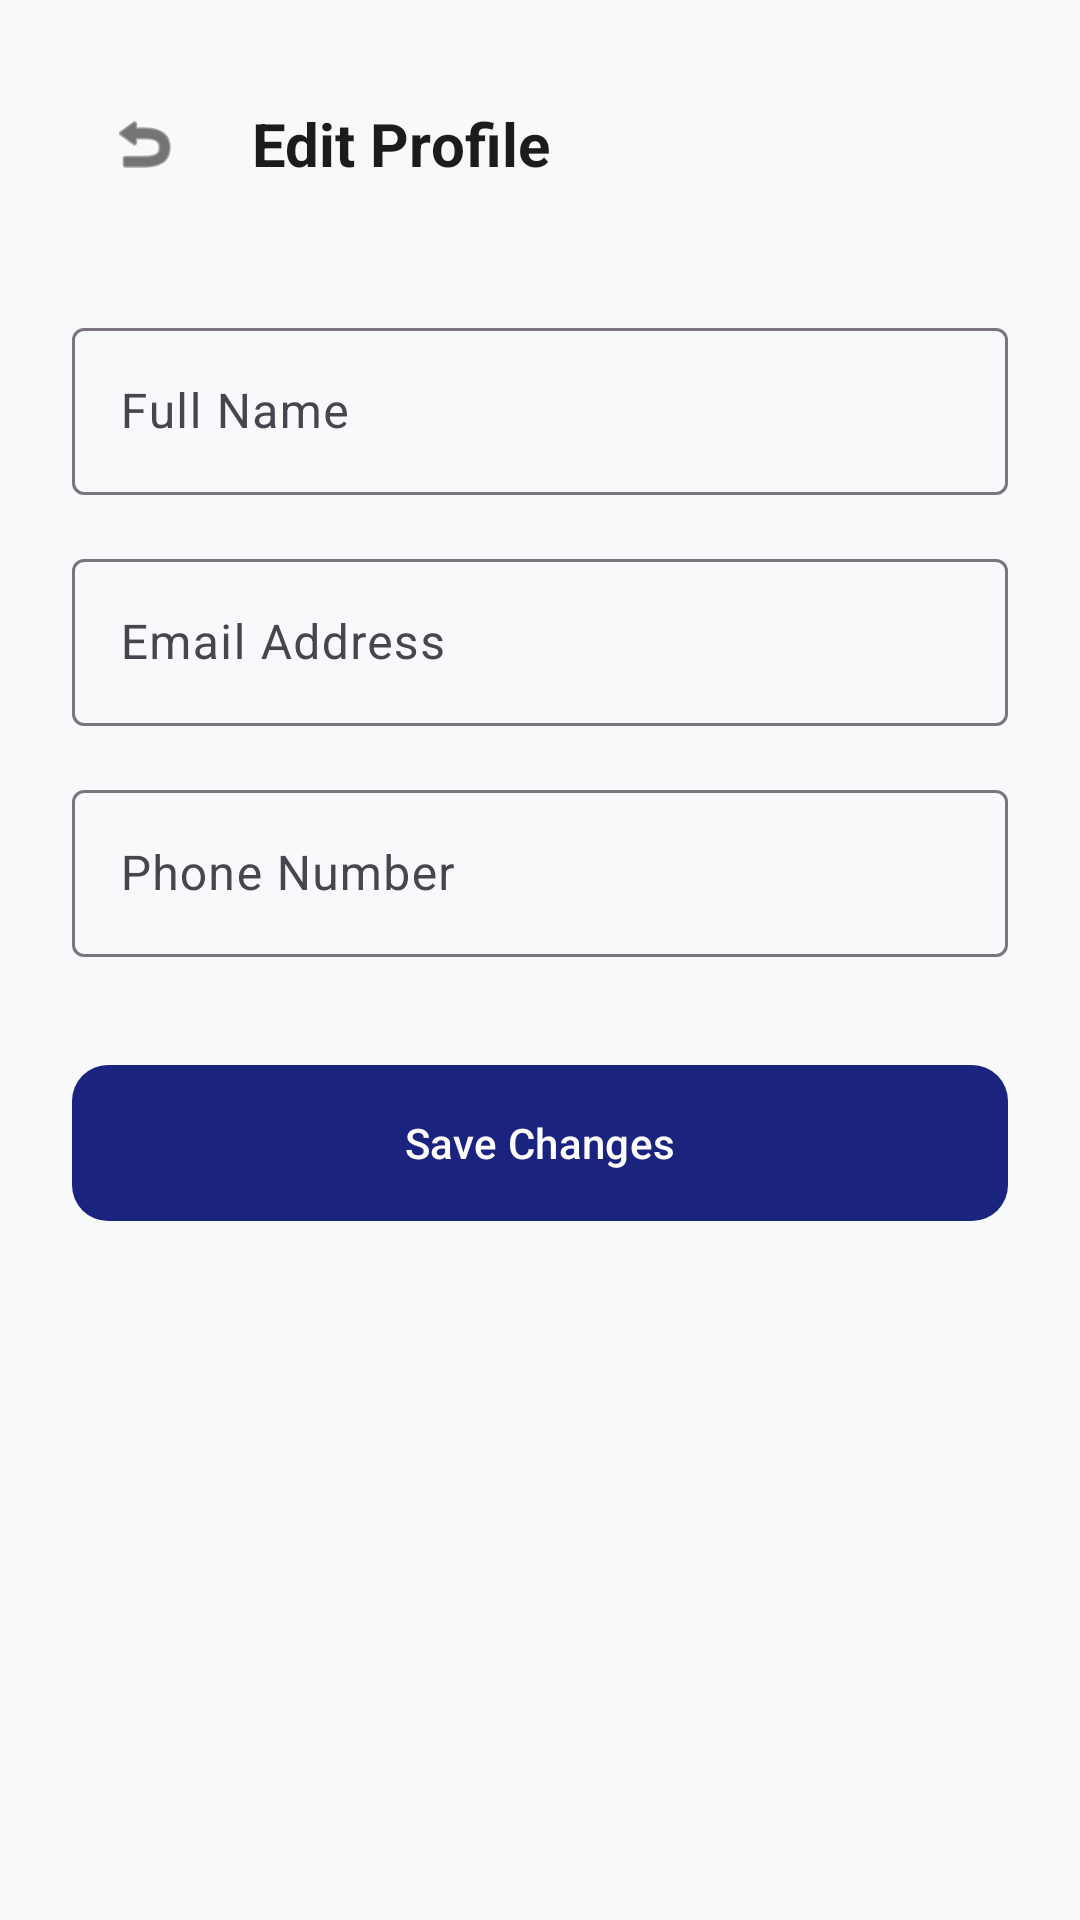

Icons on this 1080 x 1920 Android screen, each with its box as (x1, y1, x2, y2):
revert: (119, 121, 171, 168)
